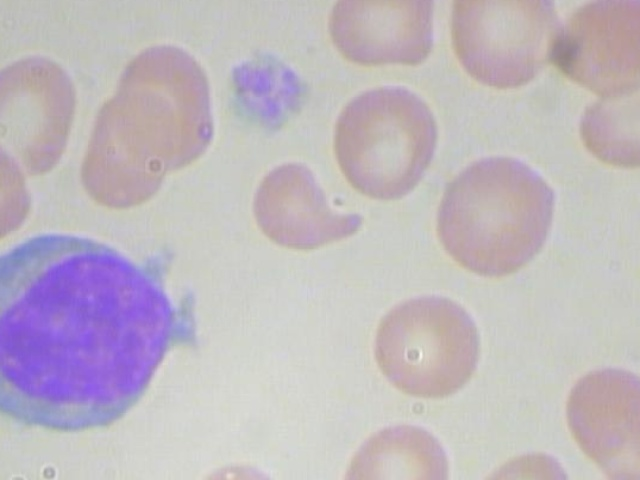RBC: (423, 148, 567, 291), (319, 76, 449, 208), (359, 289, 495, 403), (112, 37, 224, 168), (241, 141, 367, 254), (439, 0, 574, 91), (0, 49, 83, 180), (556, 361, 640, 480), (314, 0, 439, 75), (328, 415, 462, 480), (167, 449, 300, 480), (0, 112, 30, 243)
WBC: (0, 228, 211, 451)
